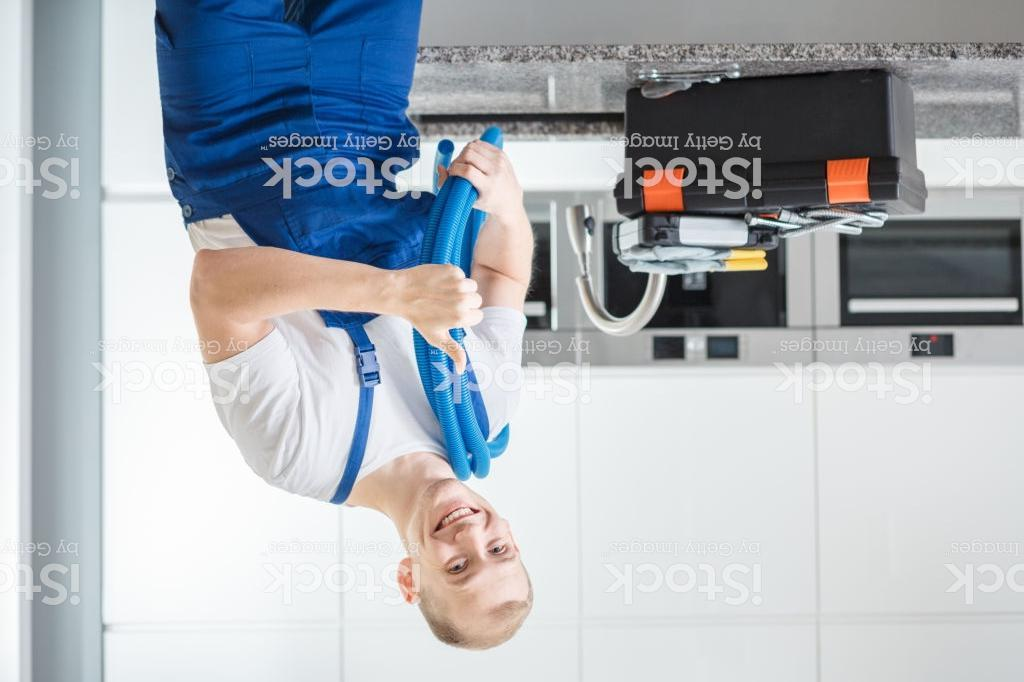thumbsdown: (412, 260, 487, 376)
